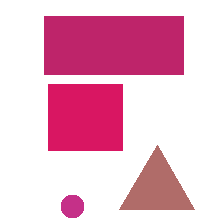circle: (61, 195, 83, 217)
rectangle: (44, 16, 183, 74), (48, 84, 122, 150)
triangle: (119, 145, 194, 209)
